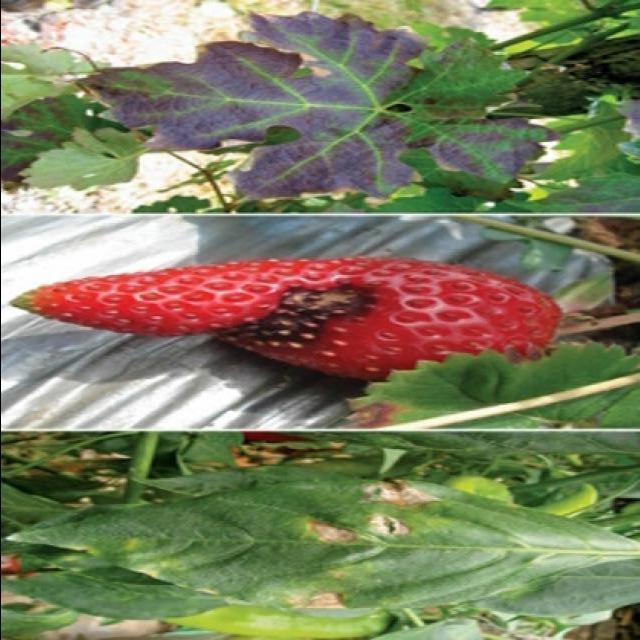Anthracnose Fruit Rot: (211, 276, 386, 359)
